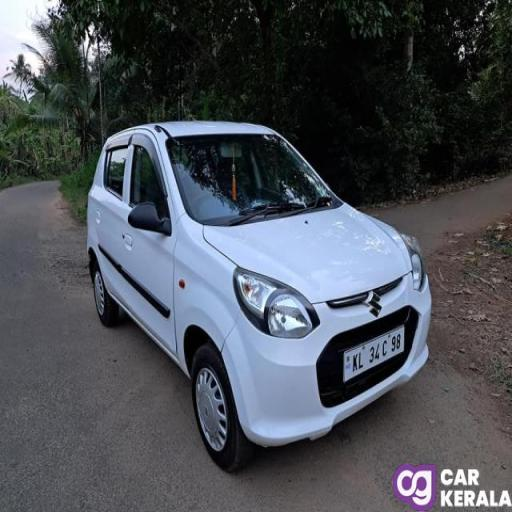License: (331, 322, 414, 386)
